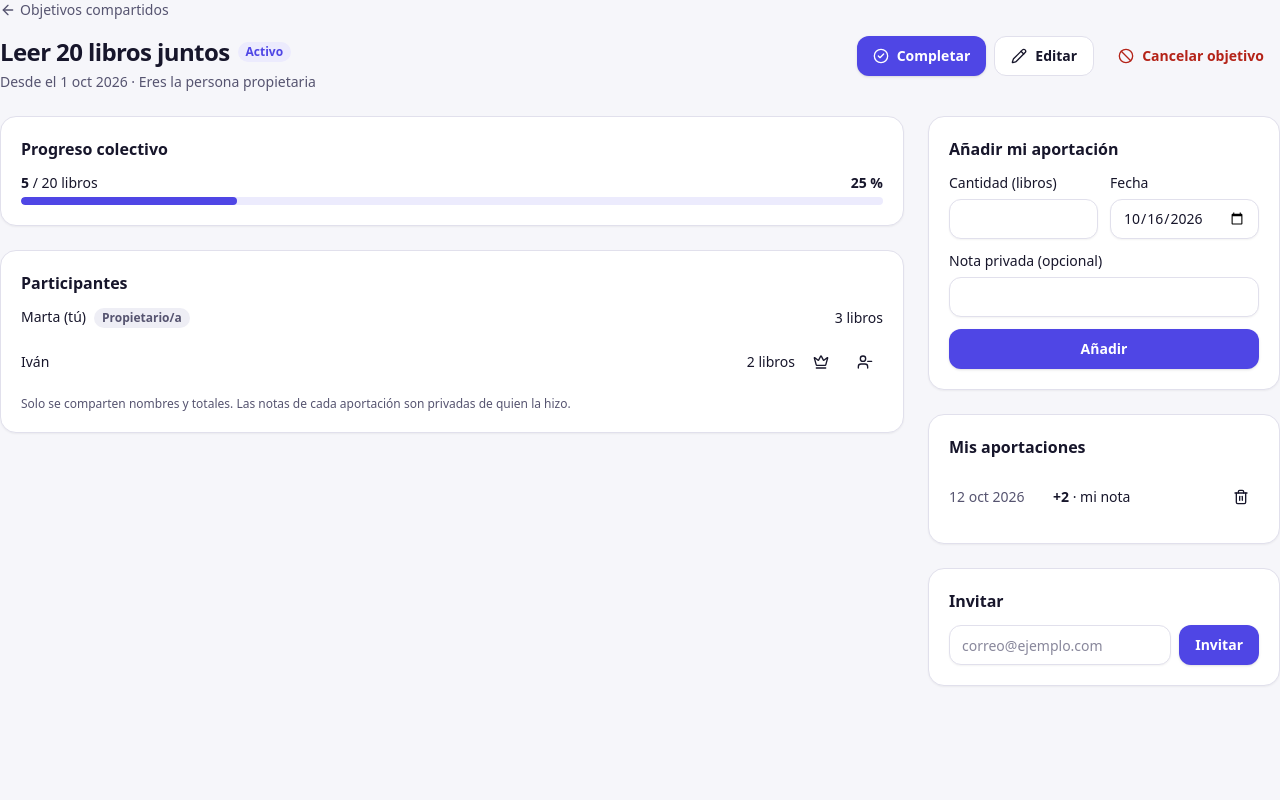
Scenario: shared goal permissions in the UI › lets the owner hand the goal over to a member after confirming
The image size is (1280, 800).
Click the button named "Ceder la propiedad a Iván" at (821, 362), box [803,344,839,380]
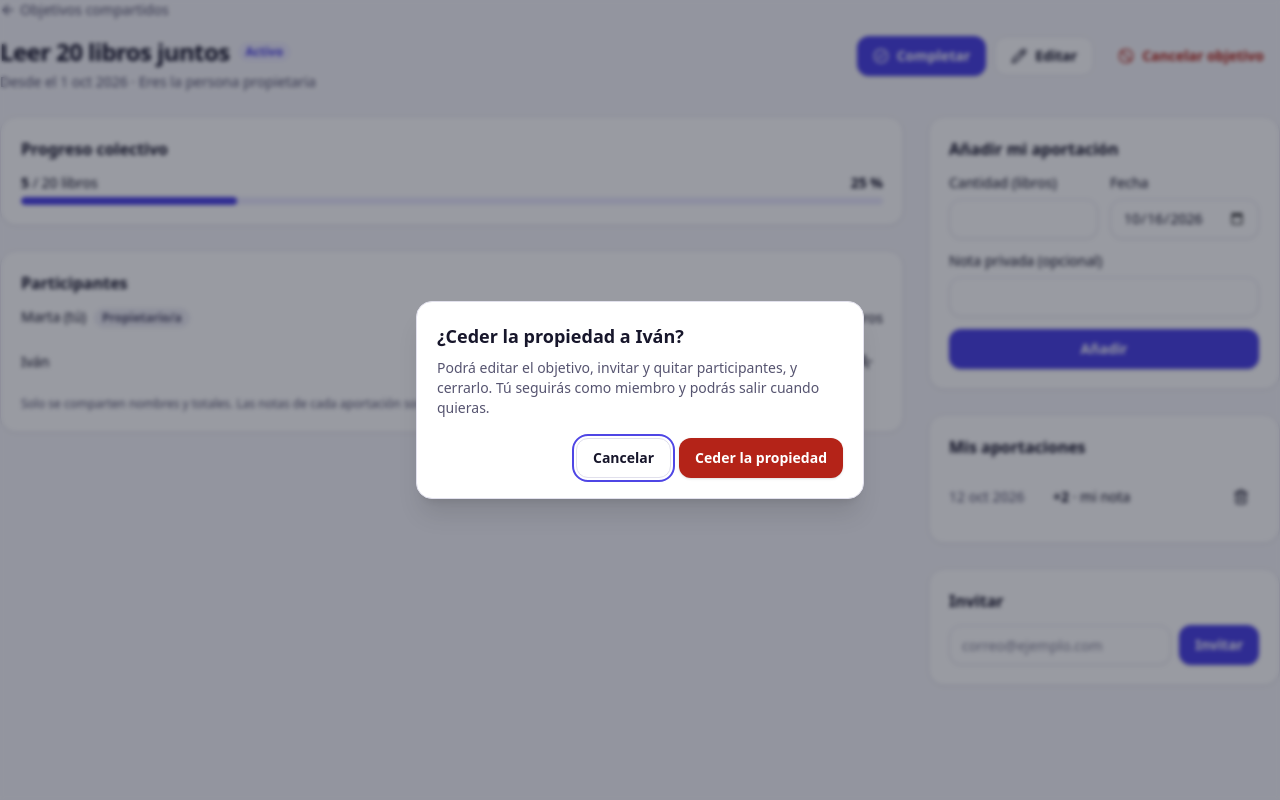
Expected: the heading "¿Ceder la propiedad a Iván?" is shown, [437,324,684,348]
Click the button "Ceder la propiedad" at (761, 458), box [679,438,843,478]
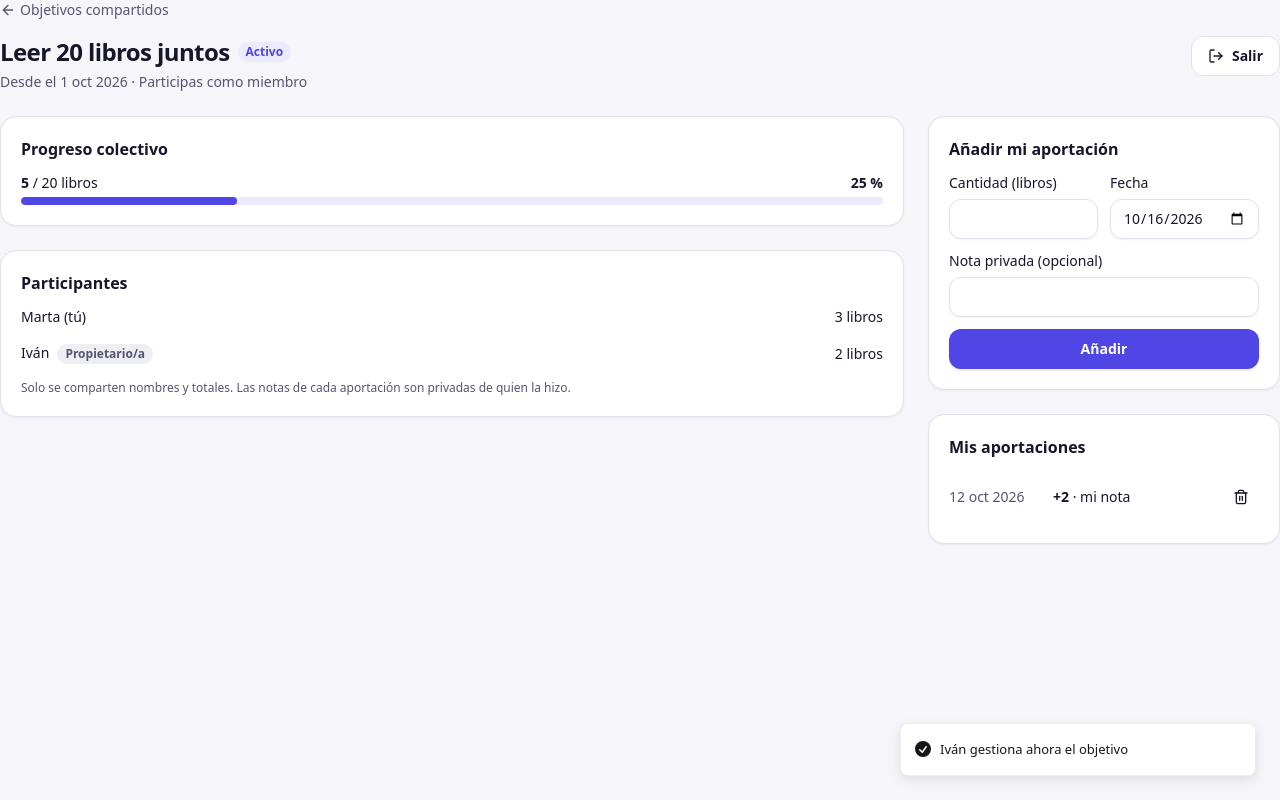
Expected: the button "Salir" is shown, [1191,36,1279,76]
Expected: the heading "Ceder la propiedad" is gone
